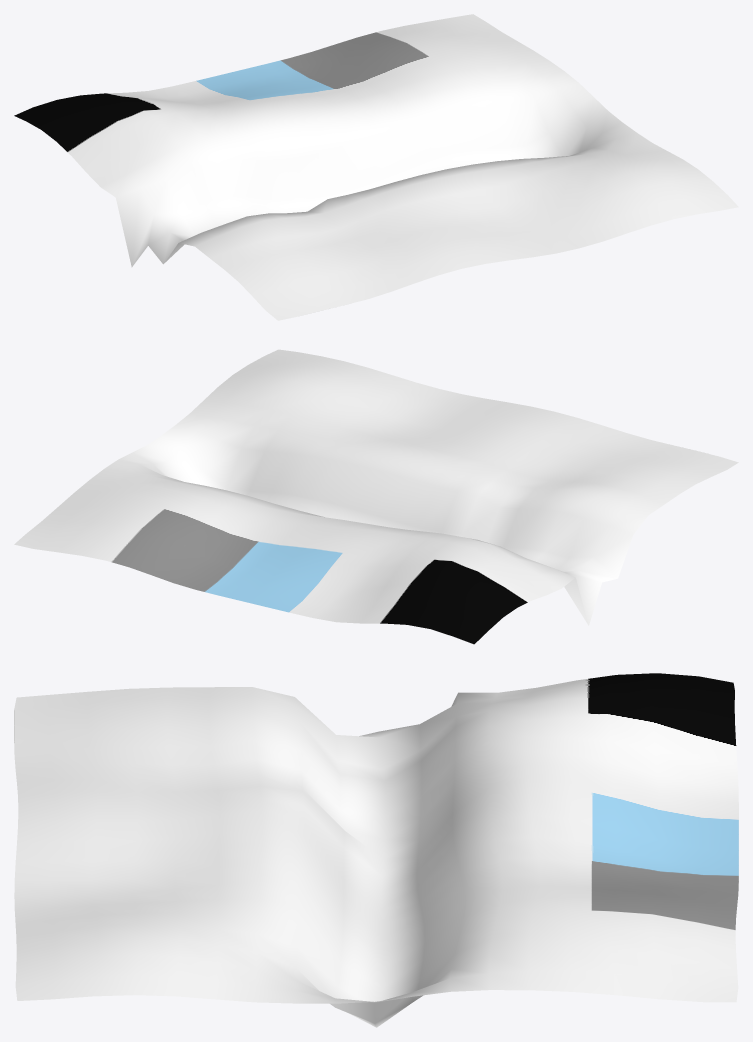
Rendered from terrenoo.fbx.
3 renders of one model, top to bottom at view 1: azimuth 30°, elevation 25°; view 2: azimuth 150°, elevation 25°; view 3: azimuth 270°, elevation 25°, orthographic. The views are drawn at different scales.
Parts seen in each view (by area): view 1: Terreno; view 2: Terreno; view 3: Terreno.
Boxes of the visible parts, box(x1,y1,x2,y2) form: Terreno: box(14, 14, 738, 320); Terreno: box(14, 349, 738, 644); Terreno: box(14, 673, 738, 1027).
Size of the model in its own units: 34641 by 6647 by 34586.
